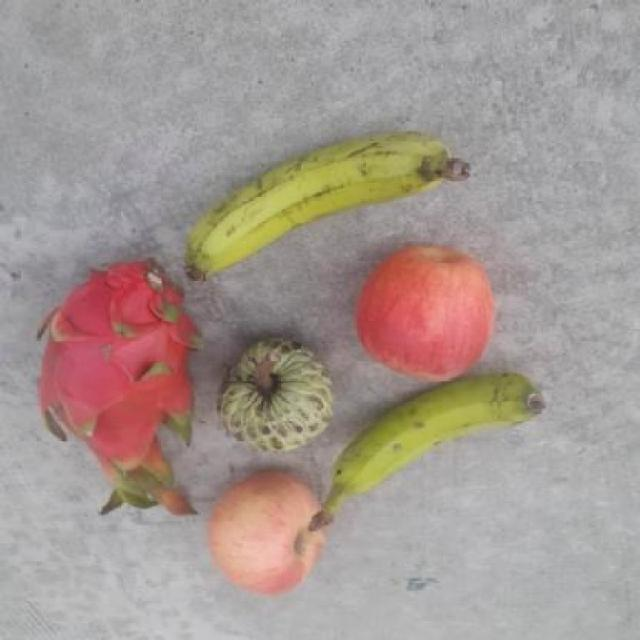apple: (352, 241, 497, 384), (206, 467, 329, 595)
banana: (181, 131, 474, 284), (303, 373, 546, 533)
dragon fruit: (28, 259, 208, 516)
sugar apple: (214, 336, 334, 455)
